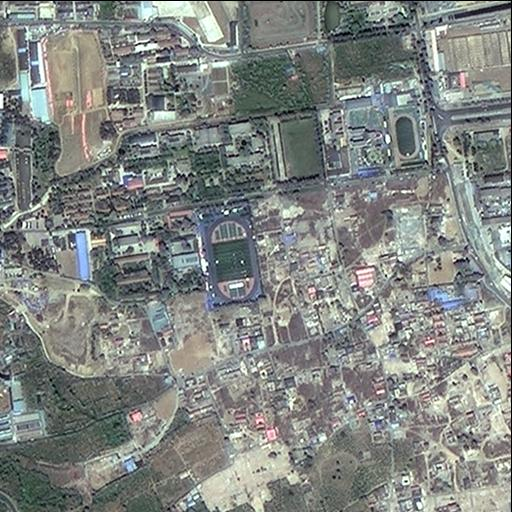school: (340, 92, 428, 176)
